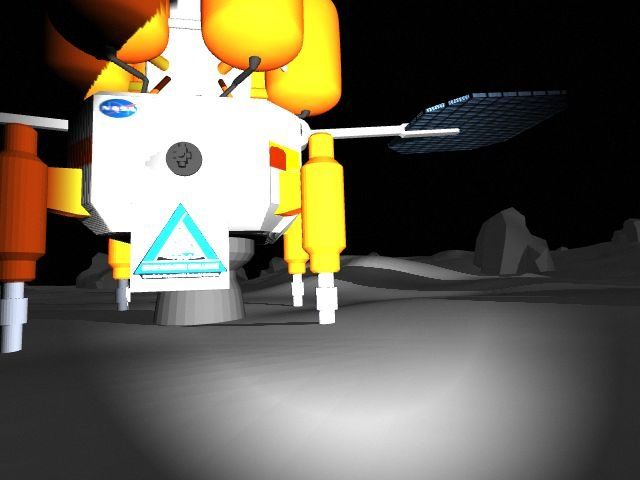basemarker: (131, 201, 229, 280)
